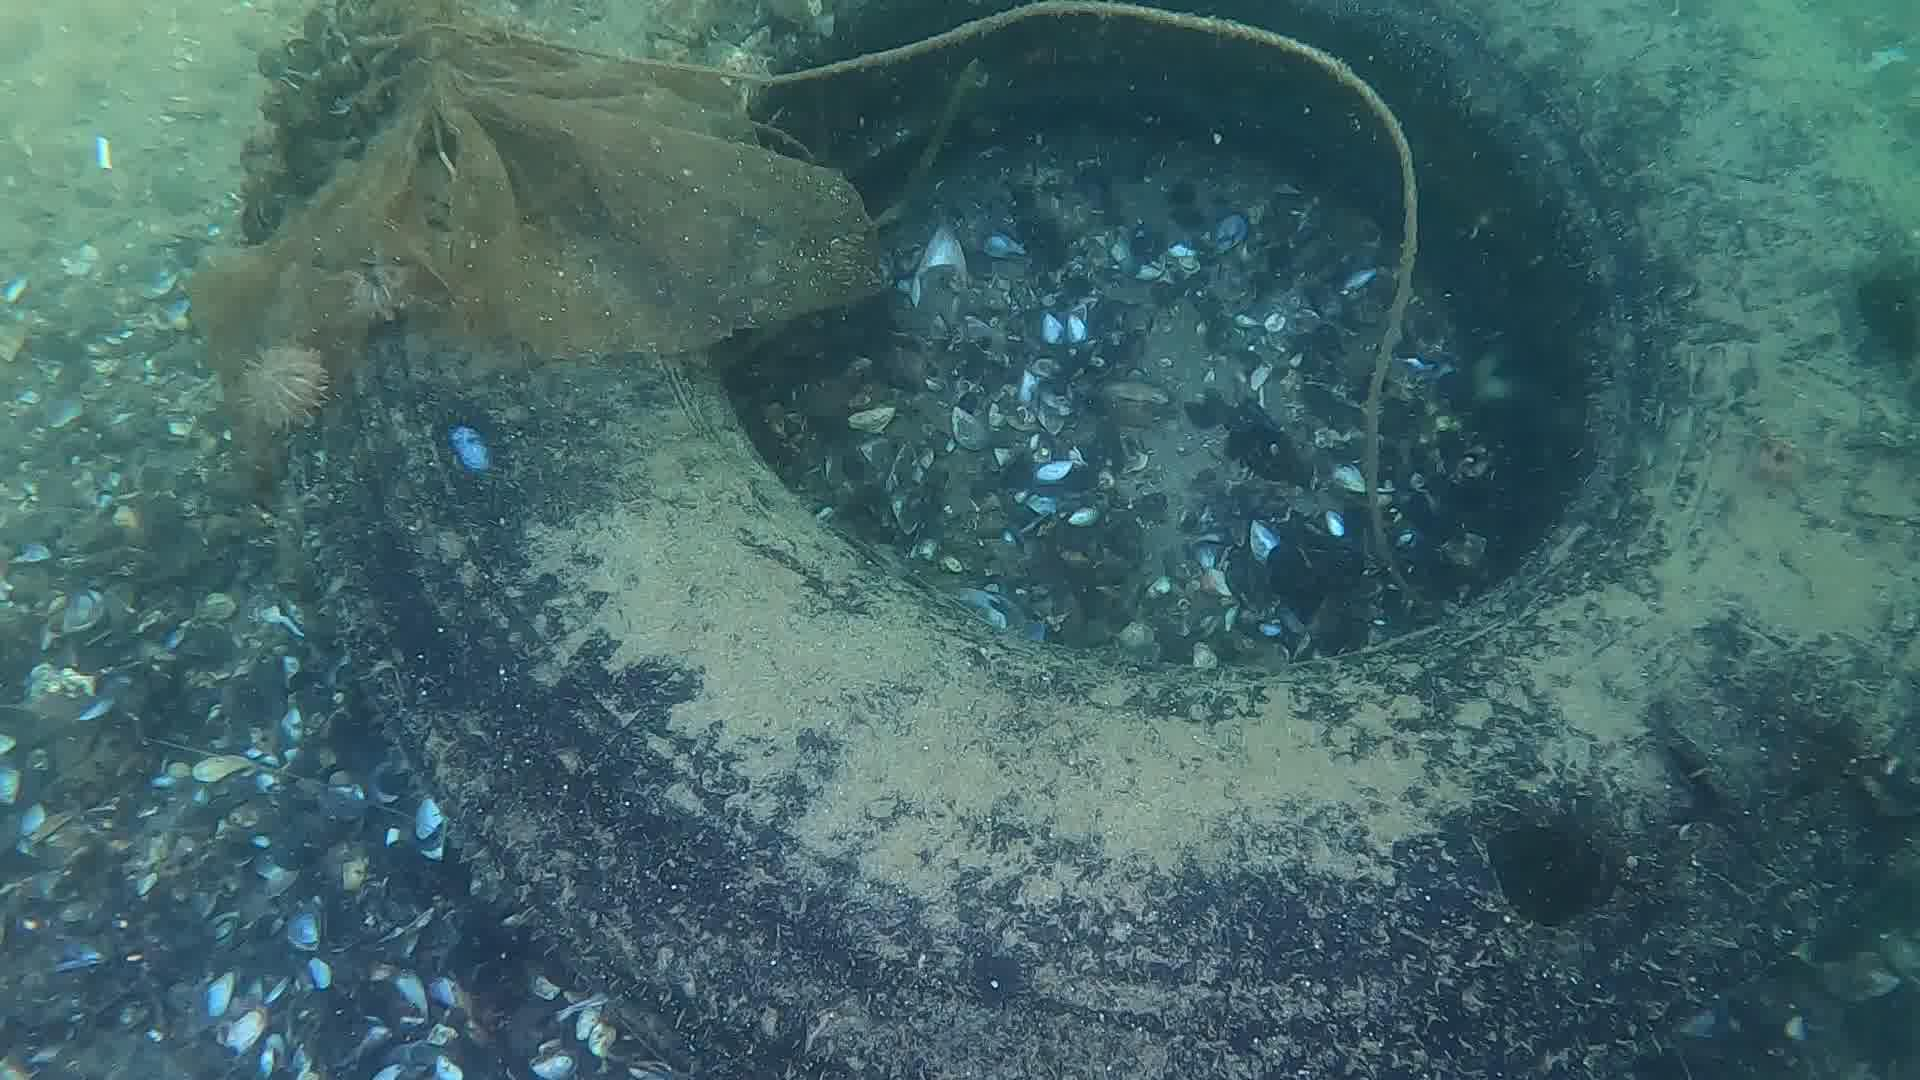rope: (349, 0, 1428, 542)
tire: (282, 0, 1920, 1080)
